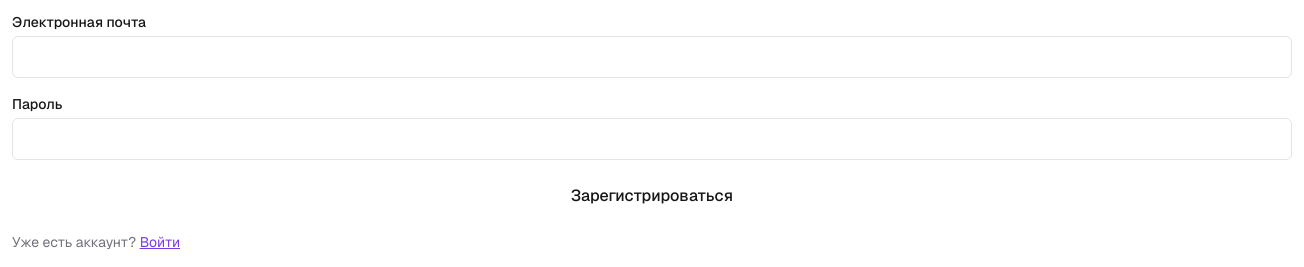
SignUpForm feedback tones › shows check-email inside the success alert, with foreground text
Type "reader@example.com" into the field labelled "Электронная почта" at (652, 57), box [12,36,1292,78]
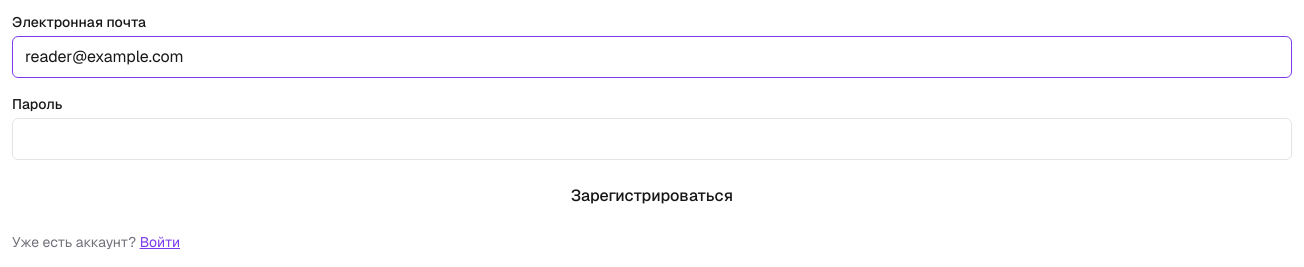
Type "secret-password-1" into the password field labelled "Пароль" at (652, 139), box [12,118,1292,160]
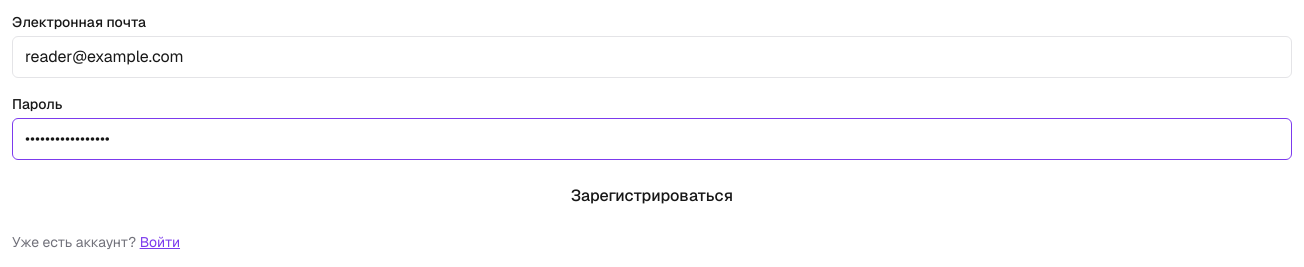
Click the button "Зарегистрироваться" at (652, 196), box [12,176,1292,216]
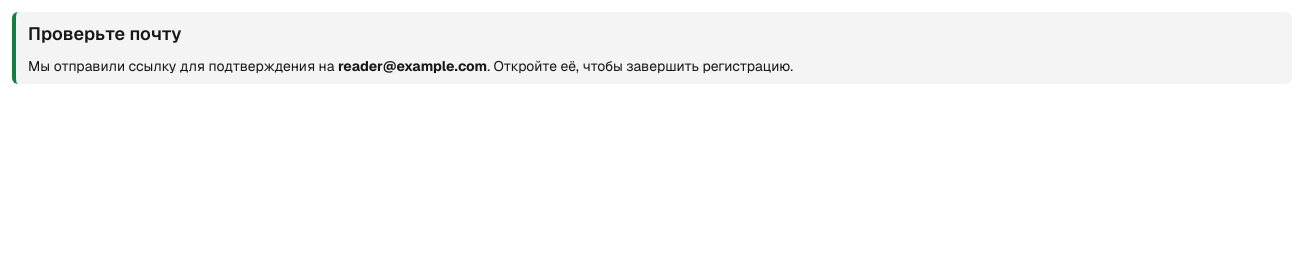
expect the message shows "Проверьте почту": met, box [28,22,182,45]
expect the message shows "reader@example.com": met, box [338,57,487,75]
